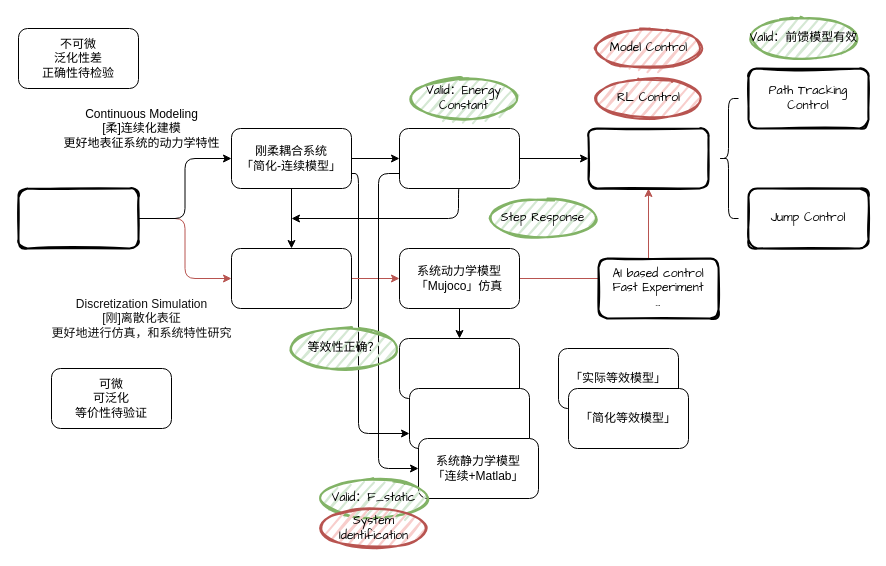
The diagram is 886 pixels wide and 566 high, and some of its shapes have lost their labels. The centre of each missing label's shape, as x and y in pixels:
"System Control" goes at pixel 648 158.
"刚柔耦合系统 System Design" goes at pixel 78 218.
"刚柔耦合系统 「离散等效模型」" goes at pixel 291 278.
"系统动力学模型 「Matlab」数值" goes at pixel 459 158.
"系统静力学模型 「离散等效+Mujoco」" goes at pixel 459 368.
"系统静力学模型 「连续+直接计算」" goes at pixel 469 418.
